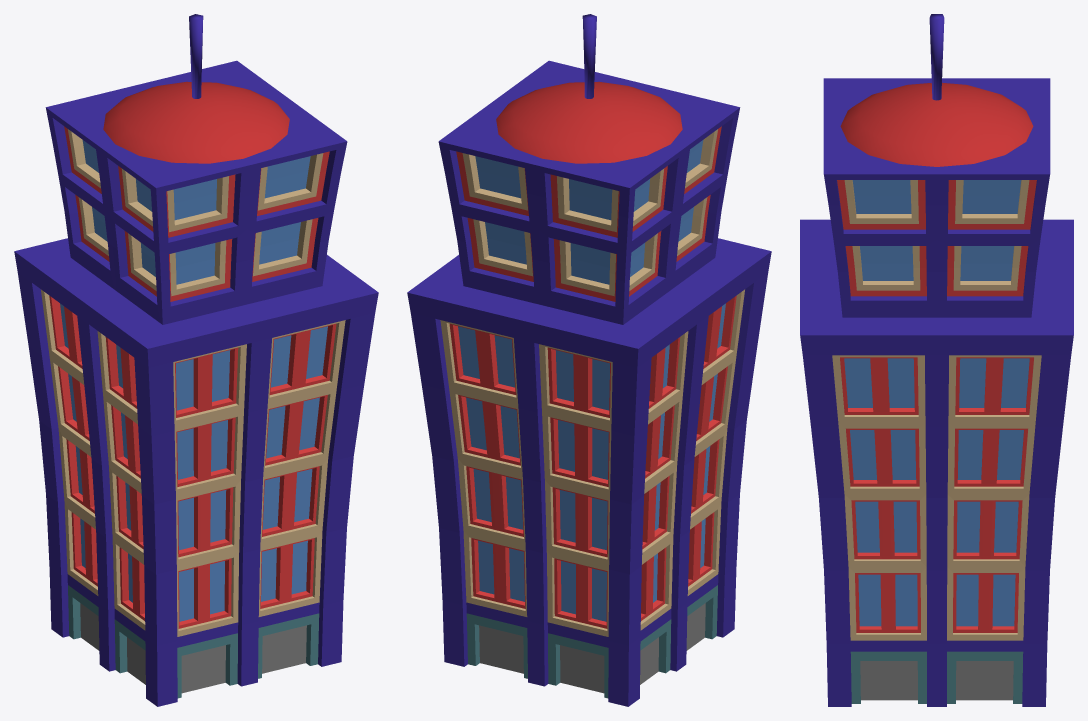
Rendered from Highrise_03.fbx.
3 views of the same model, side by side, from view 1: azimuth 30°, elevation 25°; view 2: azimuth 150°, elevation 25°; view 3: azimuth 270°, elevation 25° (orthographic). The views are drawn at different scales.
Parts seen in each view (by area): view 1: Highrise-3; view 2: Highrise-3; view 3: Highrise-3.
Part boxes in pixels (<box>): Highrise-3: <box>14,14,378,706</box>; Highrise-3: <box>407,14,771,706</box>; Highrise-3: <box>800,14,1073,706</box>.
Bounding box in the file's own units: 14.14 × 36.73 × 14.14.
